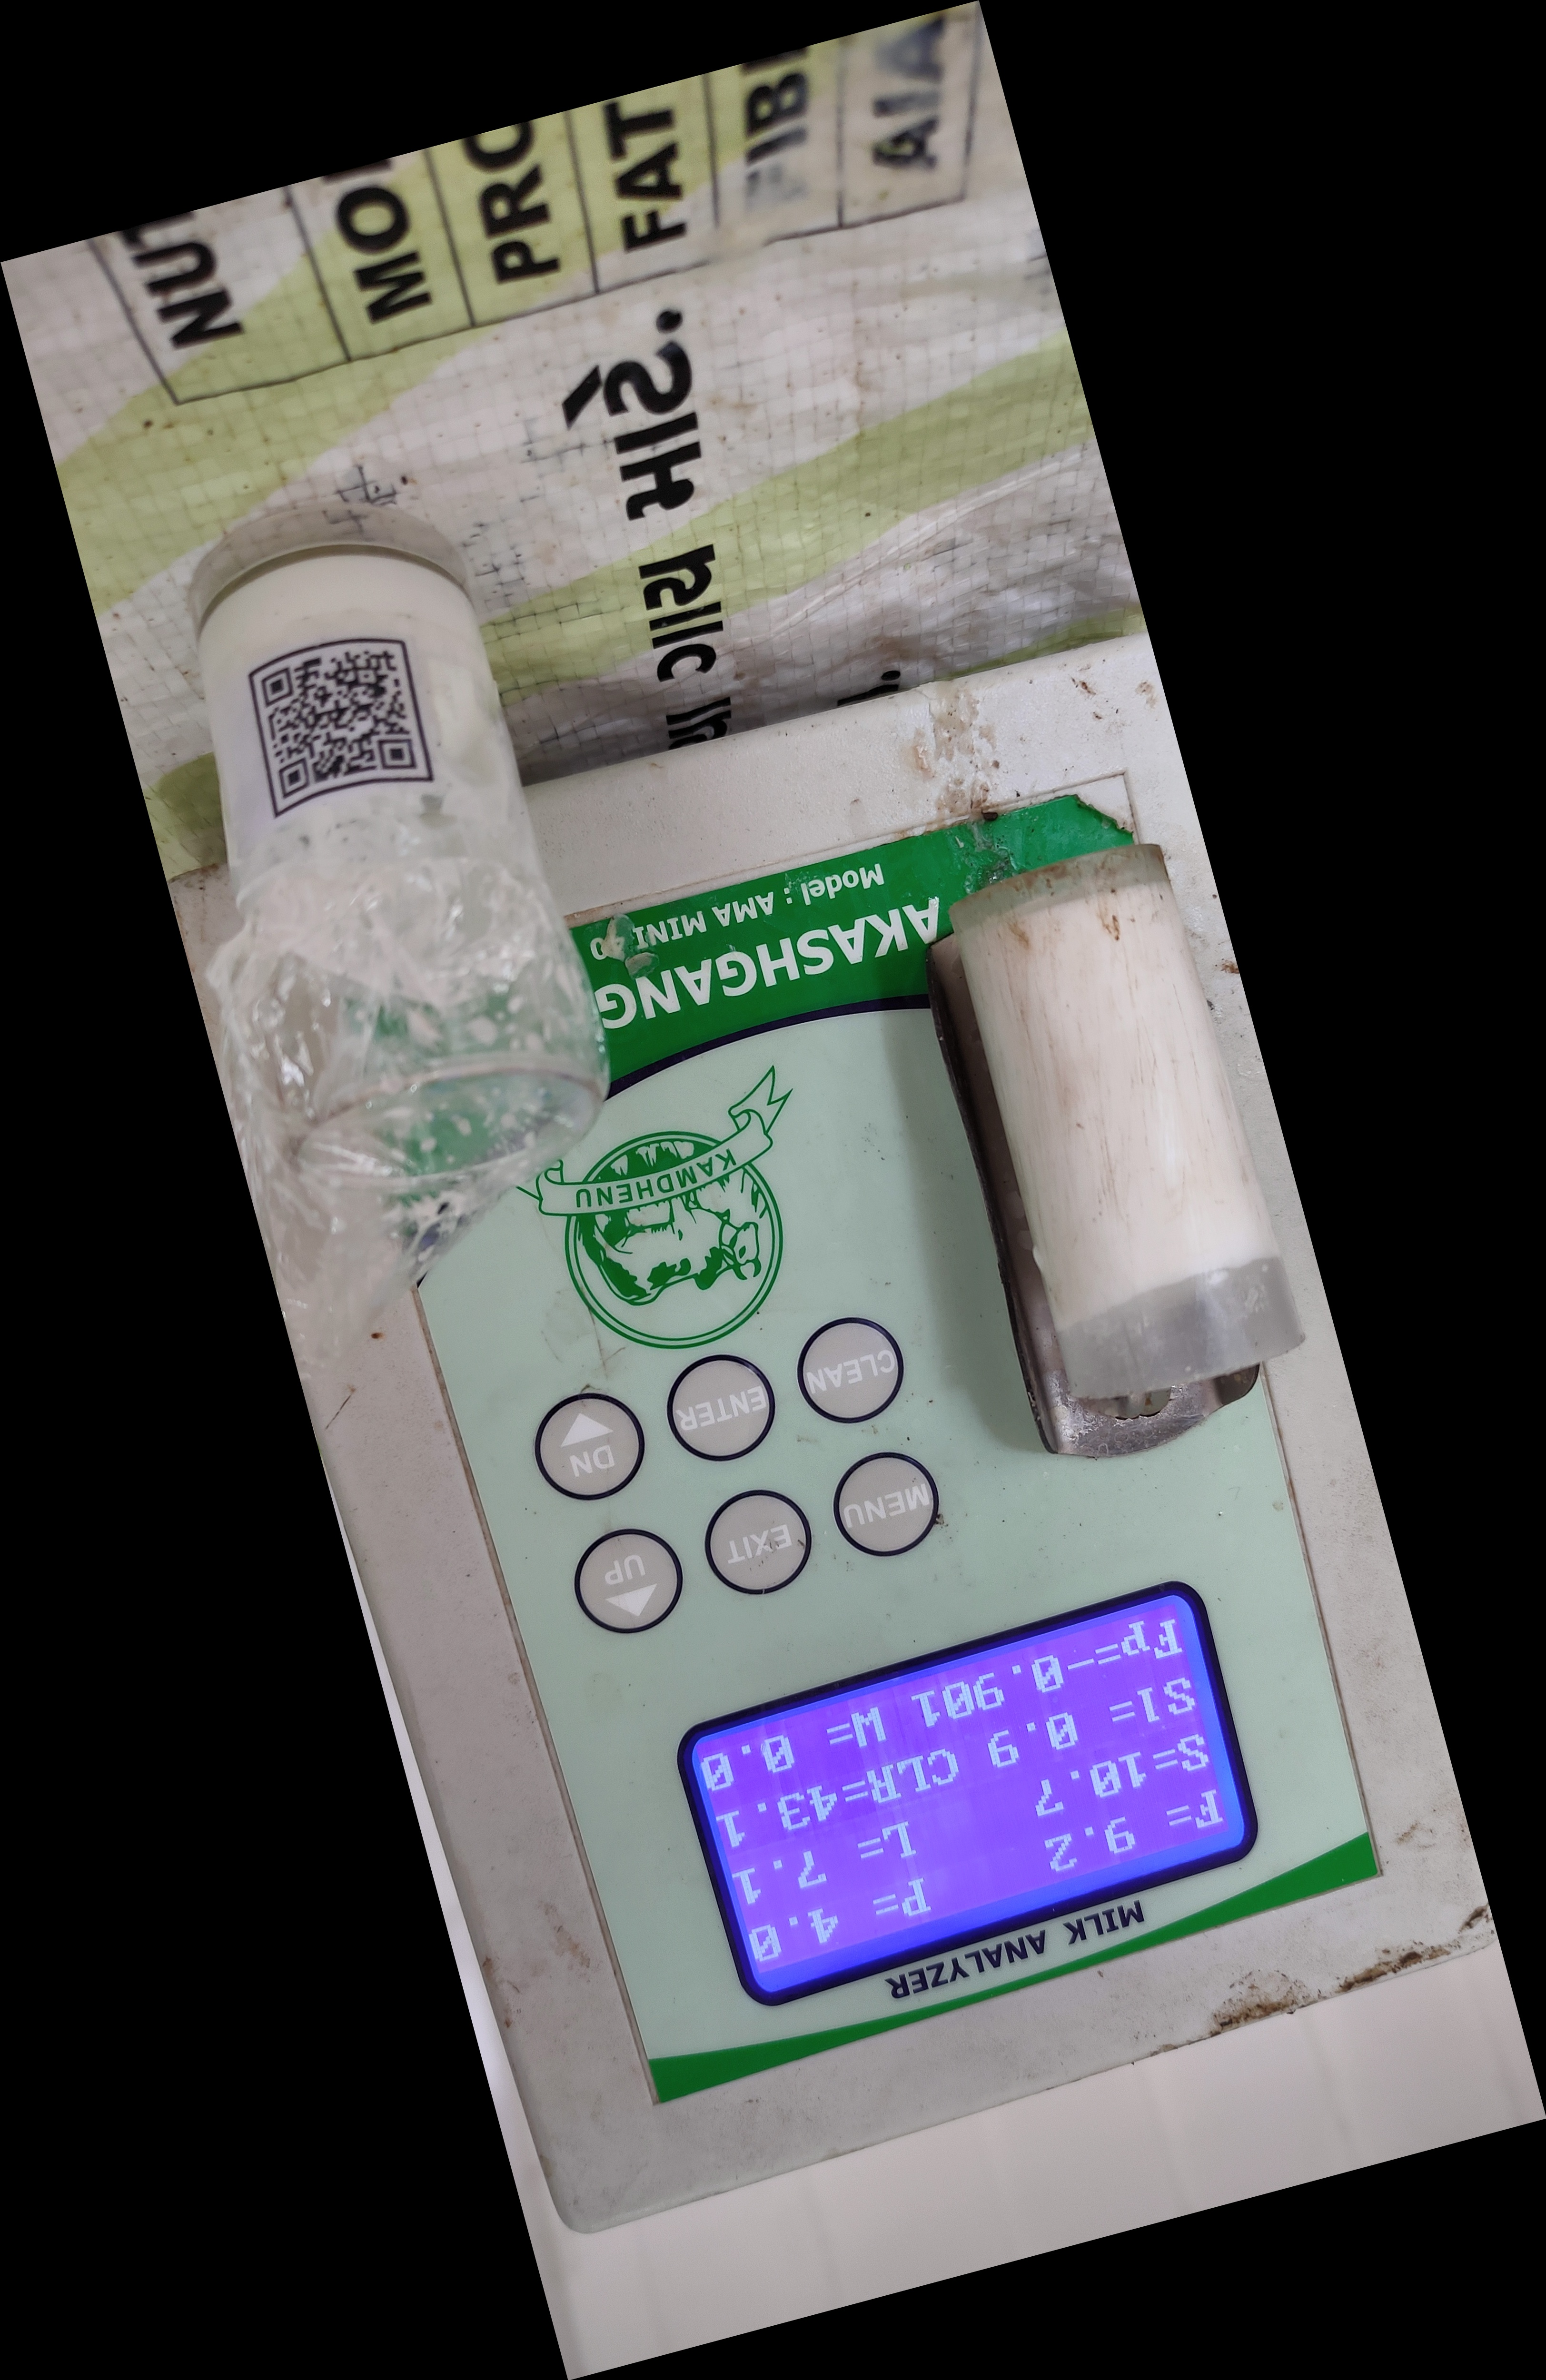lcd: (647, 1570, 1272, 2031)
qr: (246, 633, 434, 821)
